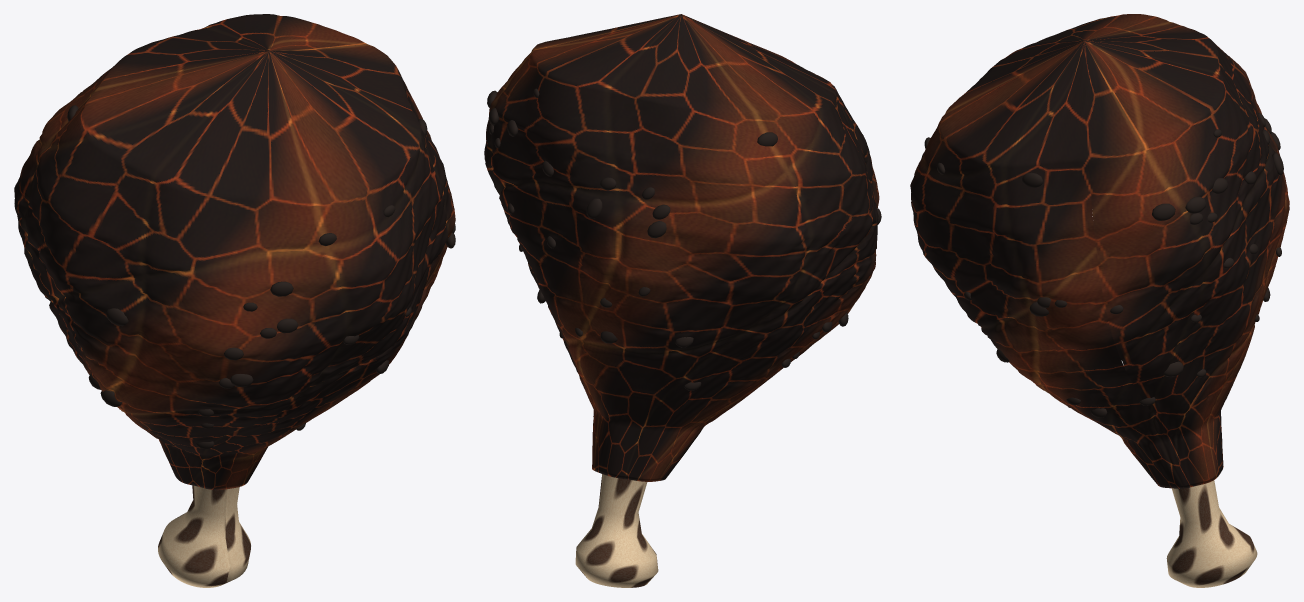
Rendered from burnt_ember_haunch.glb.
3 renders of one model, left to right at view 1: azimuth 30°, elevation 25°; view 2: azimuth 150°, elevation 25°; view 3: azimuth 270°, elevation 25°, orthographic. The views are drawn at different scales.
Parts seen in each view (by area): view 1: burnt_ember_haunch cracked black crust with dark brown flesh, Ivory dense cortical bone with residual tissue staining, Raised brittle charcoal blisters; view 2: burnt_ember_haunch cracked black crust with dark brown flesh, Ivory dense cortical bone with residual tissue staining, Raised brittle charcoal blisters; view 3: burnt_ember_haunch cracked black crust with dark brown flesh, Ivory dense cortical bone with residual tissue staining, Raised brittle charcoal blisters.
Part boxes in pixels (x1=…): burnt_ember_haunch cracked black crust with dark brown flesh: x1=14, y1=14, x2=455, y2=490; Ivory dense cortical bone with residual tissue staining: x1=158, y1=485, x2=250, y2=587; Raised brittle charcoal blisters: x1=67, y1=105, x2=455, y2=449; burnt_ember_haunch cracked black crust with dark brown flesh: x1=484, y1=14, x2=879, y2=481; Ivory dense cortical bone with residual tissue staining: x1=575, y1=474, x2=658, y2=587; Raised brittle charcoal blisters: x1=487, y1=88, x2=881, y2=390; burnt_ember_haunch cracked black crust with dark brown flesh: x1=910, y1=14, x2=1289, y2=488; Ivory dense cortical bone with residual tissue staining: x1=1166, y1=461, x2=1257, y2=587; Raised brittle charcoal blisters: x1=921, y1=113, x2=1289, y2=417.
Bounding box in the file's own units: 0.4187 × 0.5979 × 0.3813.
Materials: 3 (2 with a texture image).
